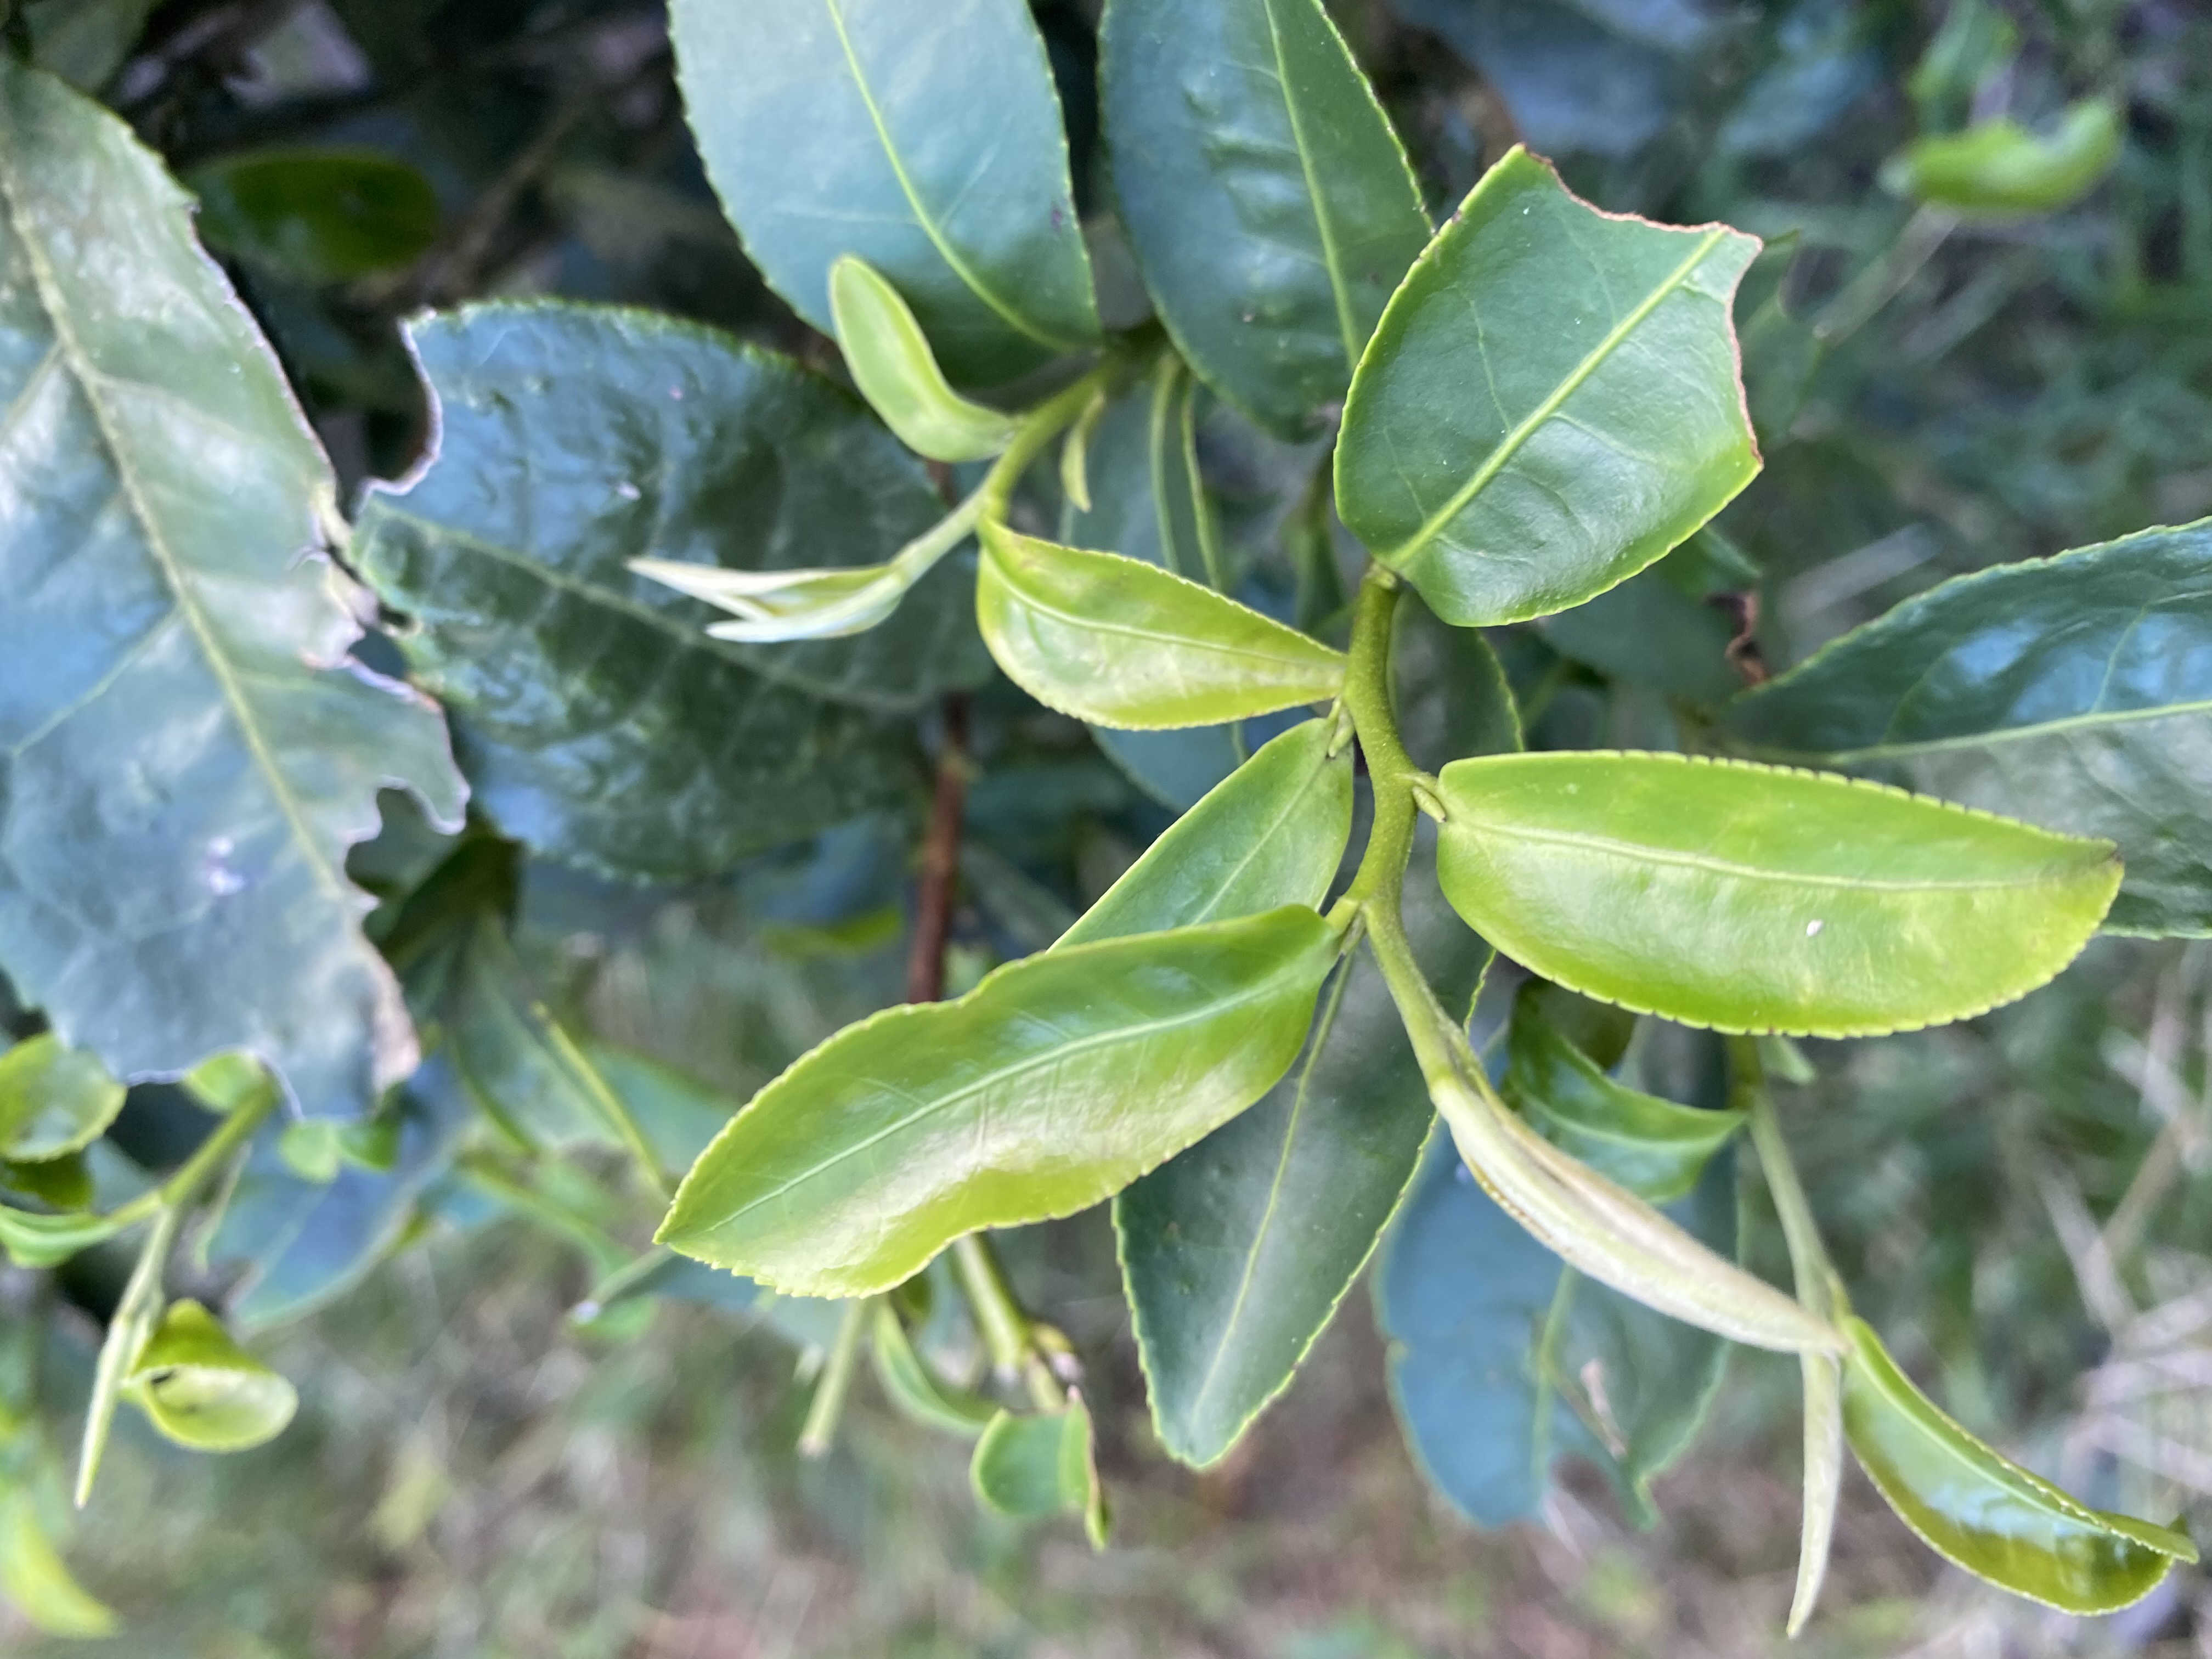chihuo_high: (3, 54, 477, 1122), (352, 295, 981, 894), (1329, 138, 1770, 633)
healthy: (651, 904, 1329, 1300), (1433, 742, 2127, 1047), (1838, 1316, 2200, 1614), (974, 519, 1350, 732)
